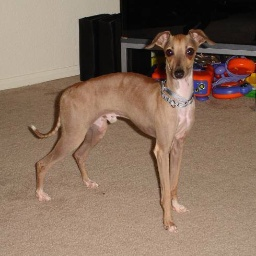dog: (28, 28, 209, 233)
